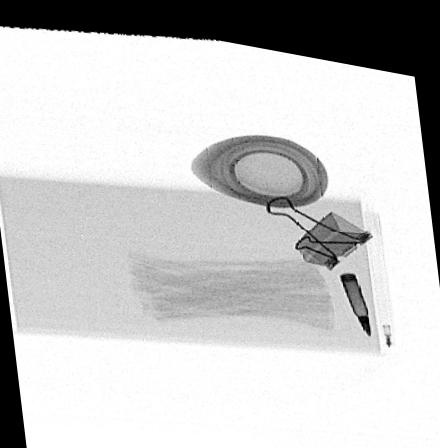Bullet: (338, 258, 370, 322)
